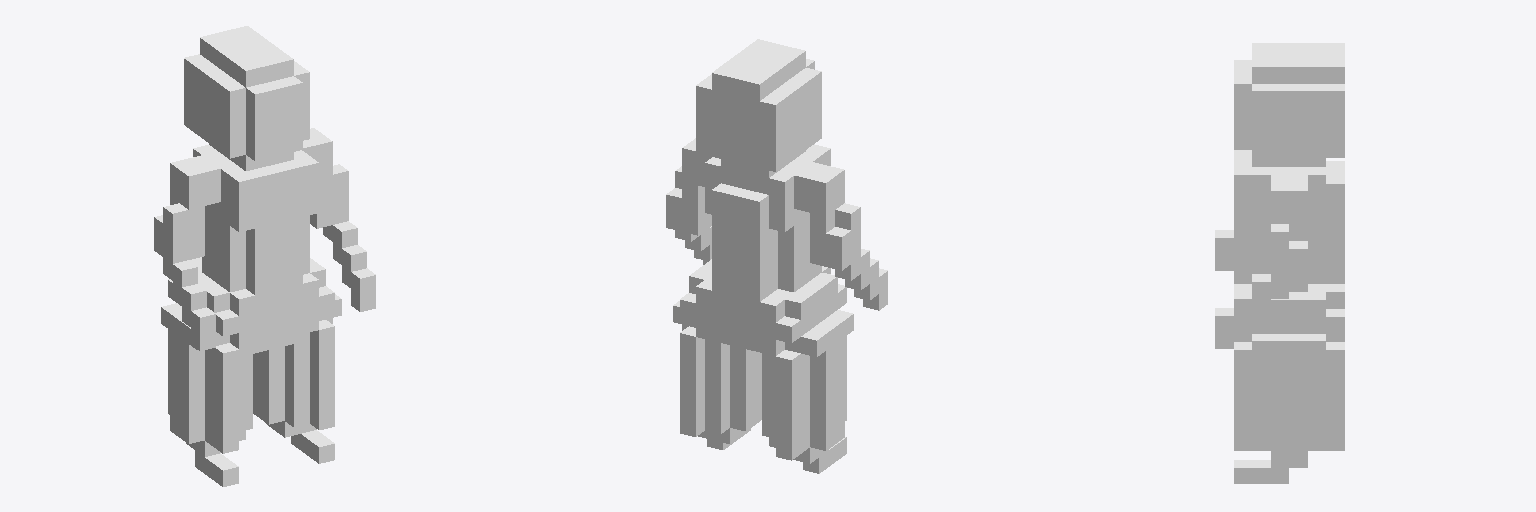
The model's file is Guerrero.obj.
3 renders of one model, left to right at view 1: azimuth 30°, elevation 25°; view 2: azimuth 150°, elevation 25°; view 3: azimuth 270°, elevation 25°, orthographic.
Visible parts, largest first — view 1: object 1; view 2: object 1; view 3: object 1.
Boxes of the visible parts, x1,y1,x2,y2 form: object 1: [154, 26, 375, 486]; object 1: [666, 39, 887, 473]; object 1: [1215, 43, 1344, 483].
Size of the model in its own units: 1.1 by 2.4 by 0.7.